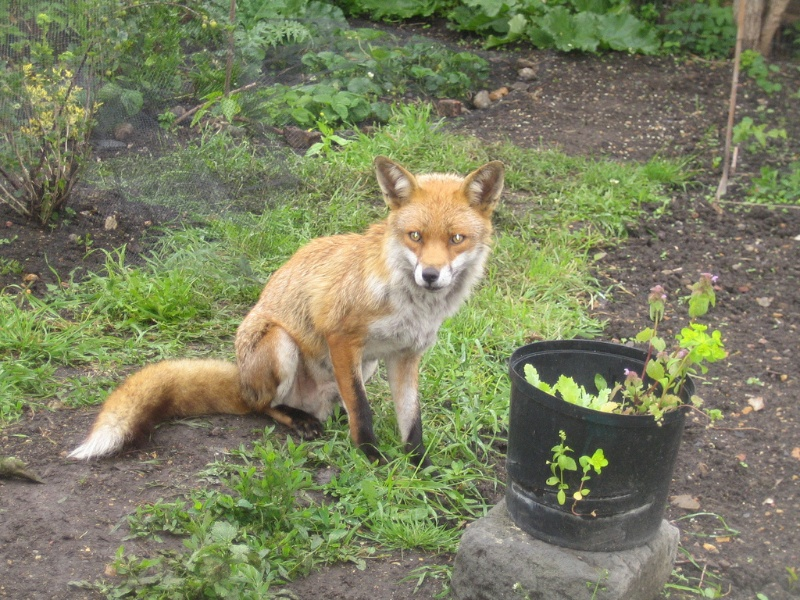fox: (68, 155, 508, 469)
